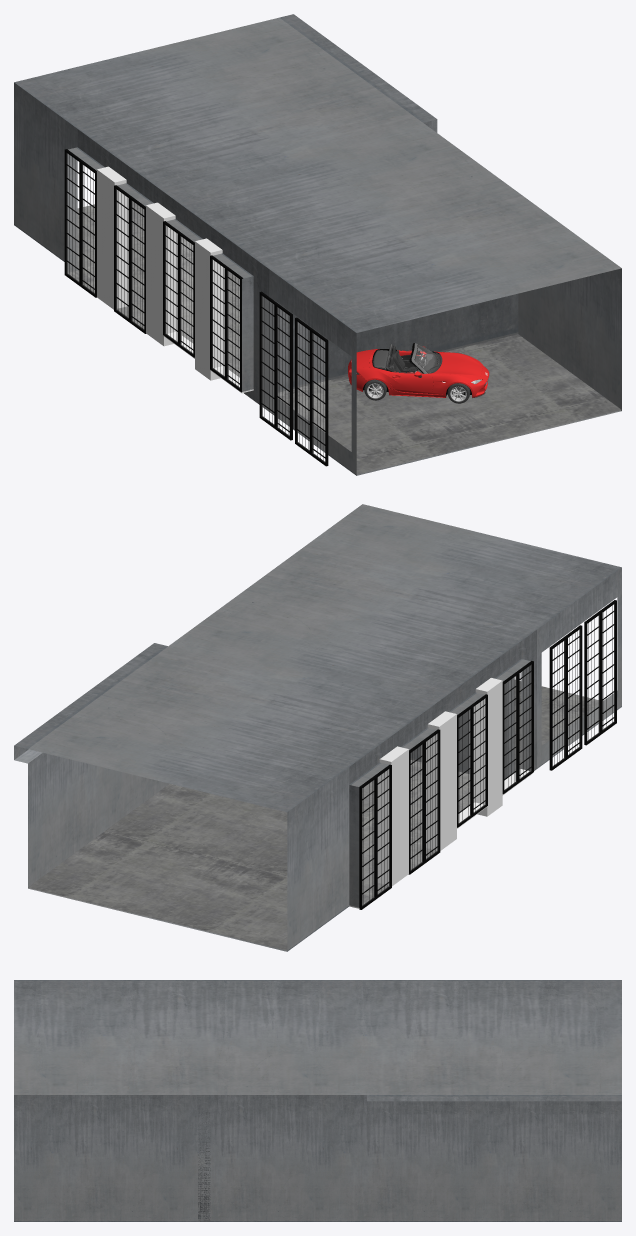
File: carro_2.glb
3 renders of one model, top to bottom at view 1: azimuth 30°, elevation 25°; view 2: azimuth 150°, elevation 25°; view 3: azimuth 270°, elevation 25°, orthographic. The views are drawn at different scales.
Parts seen in each view (by area): view 1: #Paredes, VP_Free_MazdaMX5_Body, Object002_CRN.AI46_001_10_0, Object003_CRN.AI46_001_10_0, Object001_CRN.AI46_001_10_0, Object003_CRN.AI46_001_50_0, Object001_CRN.AI46_001_50_0, Object002_CRN.AI46_001_50_0; view 2: #Paredes, Object002_CRN.AI46_001_10_0, Object003_CRN.AI46_001_10_0, Object001_CRN.AI46_001_10_0, Object002_CRN.AI46_001_50_0, Object003_CRN.AI46_001_50_0, Object001_CRN.AI46_001_50_0; view 3: #Paredes.
Boxes of the visible parts, bbox=[...] form: #Paredes: bbox=[14, 14, 621, 475]; VP_Free_MazdaMX5_Body: bbox=[348, 343, 489, 397]; Object002_CRN.AI46_001_10_0: bbox=[259, 291, 292, 440]; Object003_CRN.AI46_001_10_0: bbox=[295, 317, 328, 466]; Object001_CRN.AI46_001_10_0: bbox=[64, 149, 96, 297]; Object003_CRN.AI46_001_50_0: bbox=[297, 322, 324, 461]; Object001_CRN.AI46_001_50_0: bbox=[67, 154, 94, 292]; Object002_CRN.AI46_001_50_0: bbox=[262, 297, 288, 434]; #Paredes: bbox=[14, 504, 621, 951]; Object002_CRN.AI46_001_10_0: bbox=[549, 625, 582, 770]; Object003_CRN.AI46_001_10_0: bbox=[584, 600, 616, 745]; Object001_CRN.AI46_001_10_0: bbox=[359, 764, 391, 909]; Object002_CRN.AI46_001_50_0: bbox=[553, 630, 579, 765]; Object003_CRN.AI46_001_50_0: bbox=[589, 605, 614, 739]; Object001_CRN.AI46_001_50_0: bbox=[364, 769, 389, 904]; #Paredes: bbox=[14, 980, 621, 1221].
Size of the model in its own units: 9.34 by 4.38 by 18.95.
34 materials, 8 textured.
